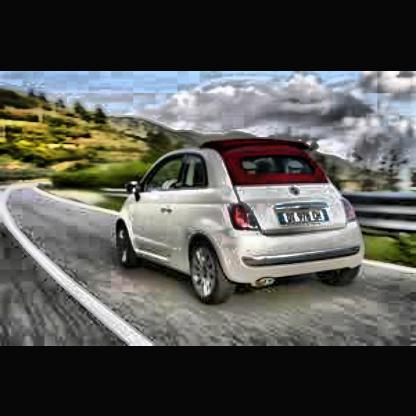FIAT 500 Convertible 2012: (116, 133, 368, 311)
